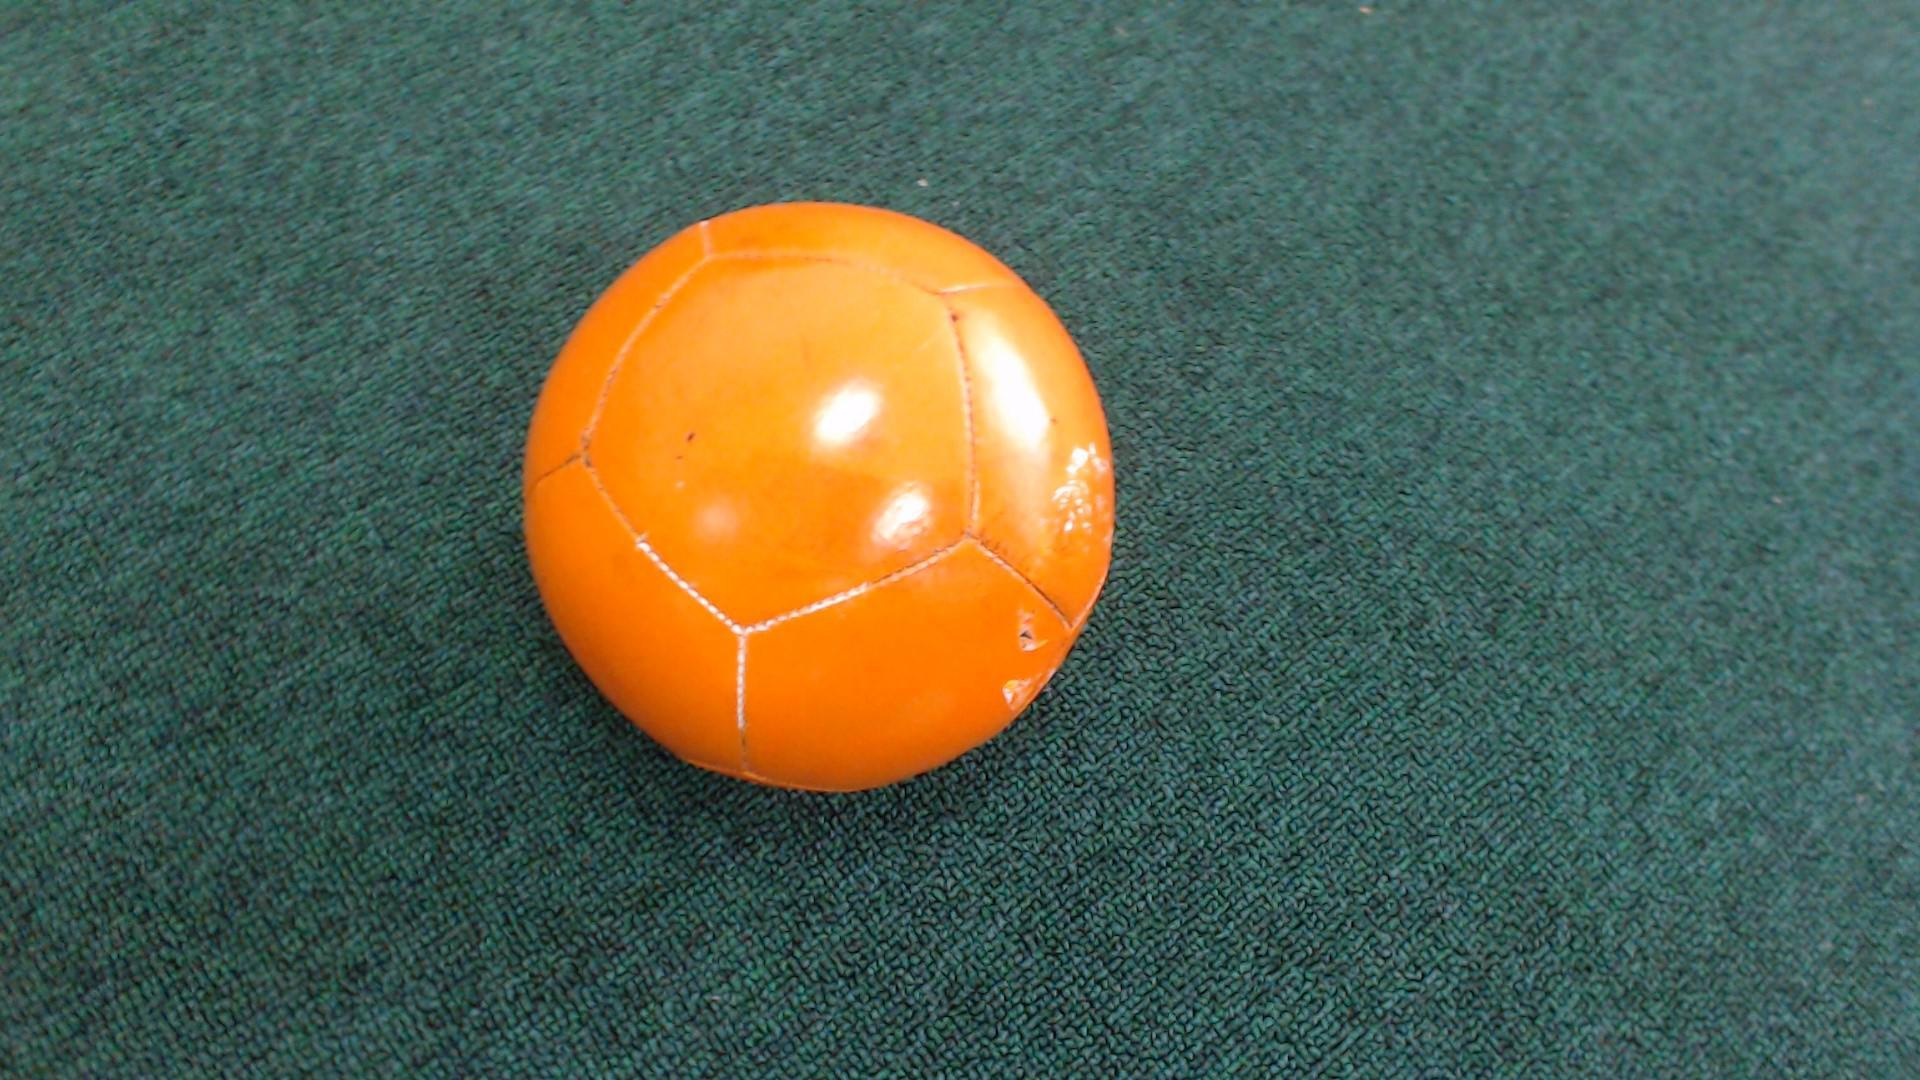bola: (477, 160, 1150, 799)
